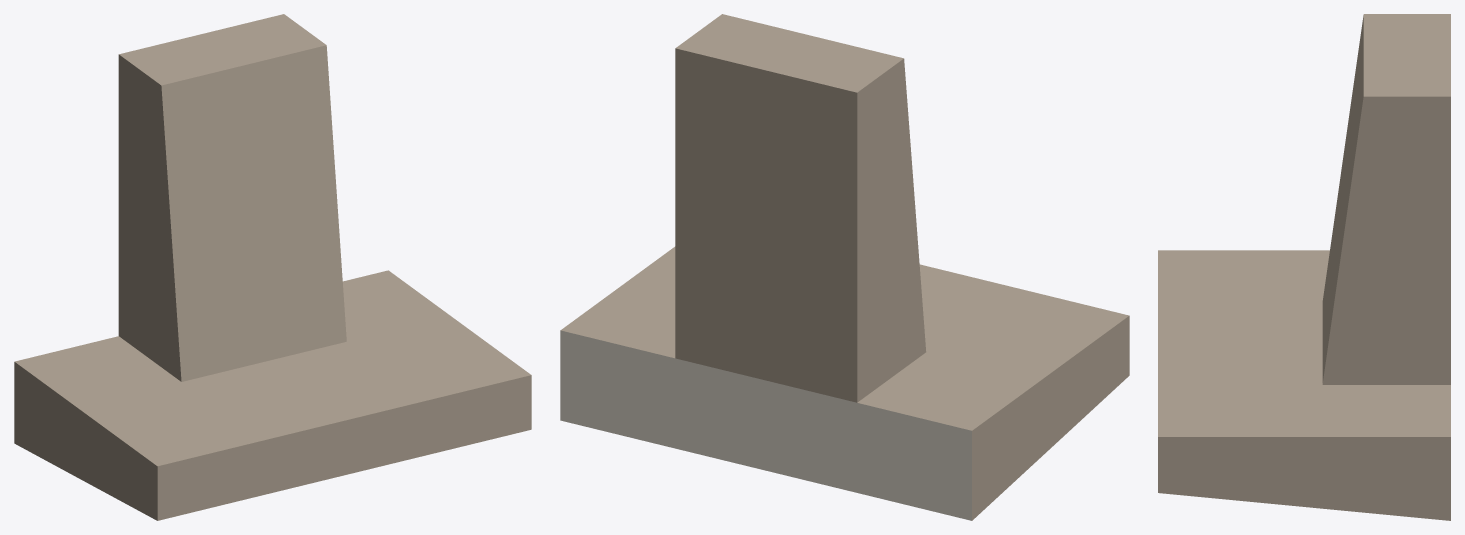
Rendered from kitHoodModern.glb.
3 views of the same model, side by side, from view 1: azimuth 30°, elevation 25°; view 2: azimuth 150°, elevation 25°; view 3: azimuth 270°, elevation 25° (orthographic). The views are drawn at different scales.
Visible parts, largest first — view 1: kitHoodModern_metalMedium; view 2: kitHoodModern_metalMedium, kitHoodModern_paint; view 3: kitHoodModern_metalMedium.
Part boxes in pixels (x1=…): kitHoodModern_metalMedium: x1=14, y1=14, x2=531, y2=520; kitHoodModern_metalMedium: x1=561, y1=14, x2=1129, y2=520; kitHoodModern_paint: x1=560, y1=330, x2=971, y2=520; kitHoodModern_metalMedium: x1=1158, y1=14, x2=1450, y2=520.
Size of the model in its own units: 0.8452 by 0.7853 by 0.56.
